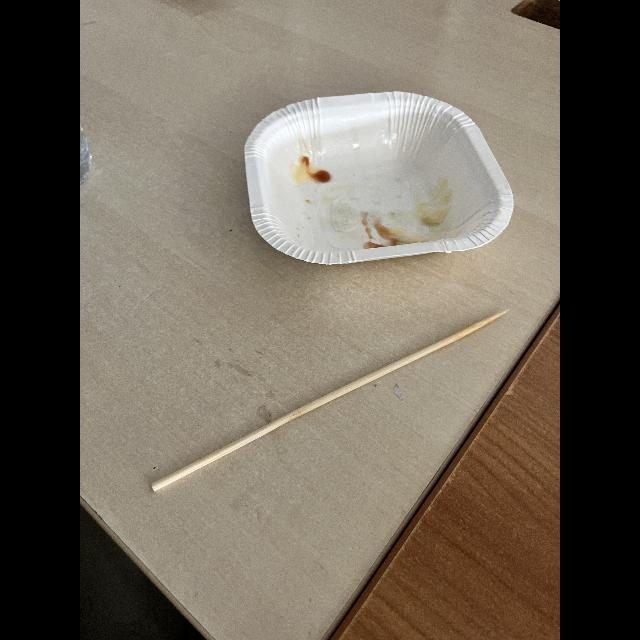cardboard_bowl: (222, 94, 514, 274)
stick: (140, 302, 510, 494)
